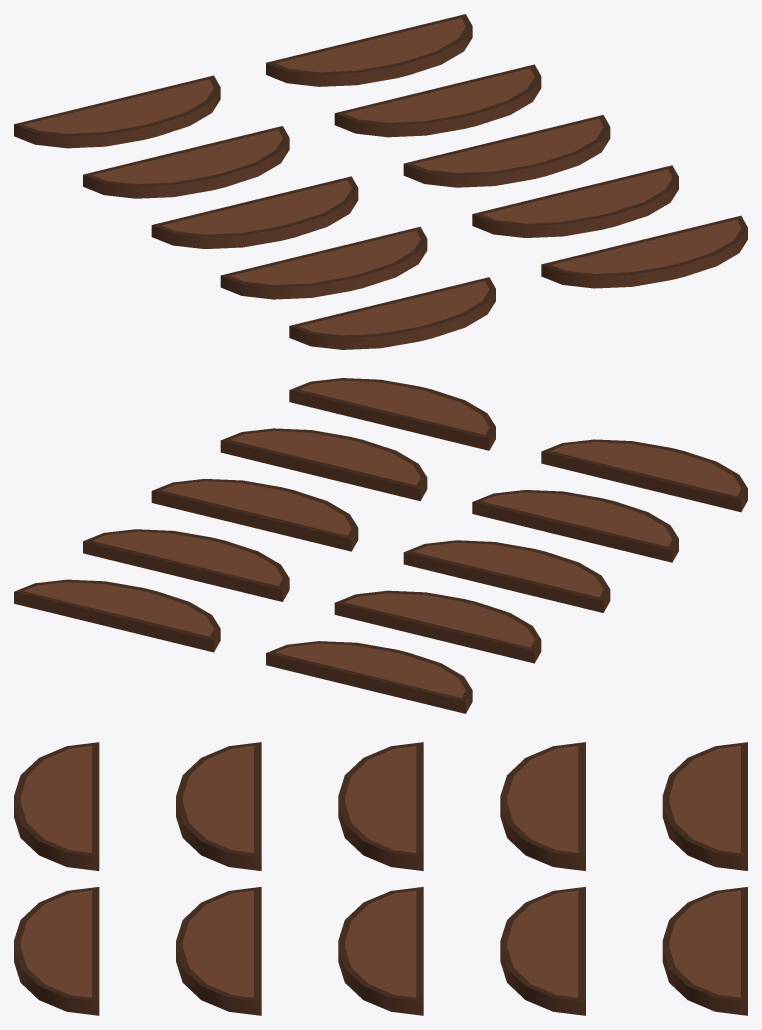
The model's file is cafeteria-knife-set.glb.
The picture shows the model from 3 angles, top to bottom: view 1: azimuth 30°, elevation 25°; view 2: azimuth 150°, elevation 25°; view 3: azimuth 270°, elevation 25°; orthographic projection. The views are drawn at different scales.
Parts seen in each view (by area): view 1: Object_41; view 2: Object_41; view 3: Object_41.
Part boxes in pixels (x1,y1,x2,y2): Object_41: (14, 14, 747, 349); Object_41: (14, 378, 747, 713); Object_41: (14, 742, 747, 1015).
Bounding box in the file's own units: 0.6164 × 0.0157 × 0.7365.
Materials: 1 (1 with a texture image).
